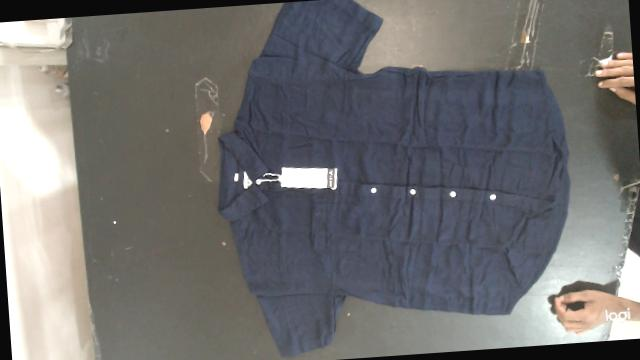new-garment: (218, 0, 569, 355)
